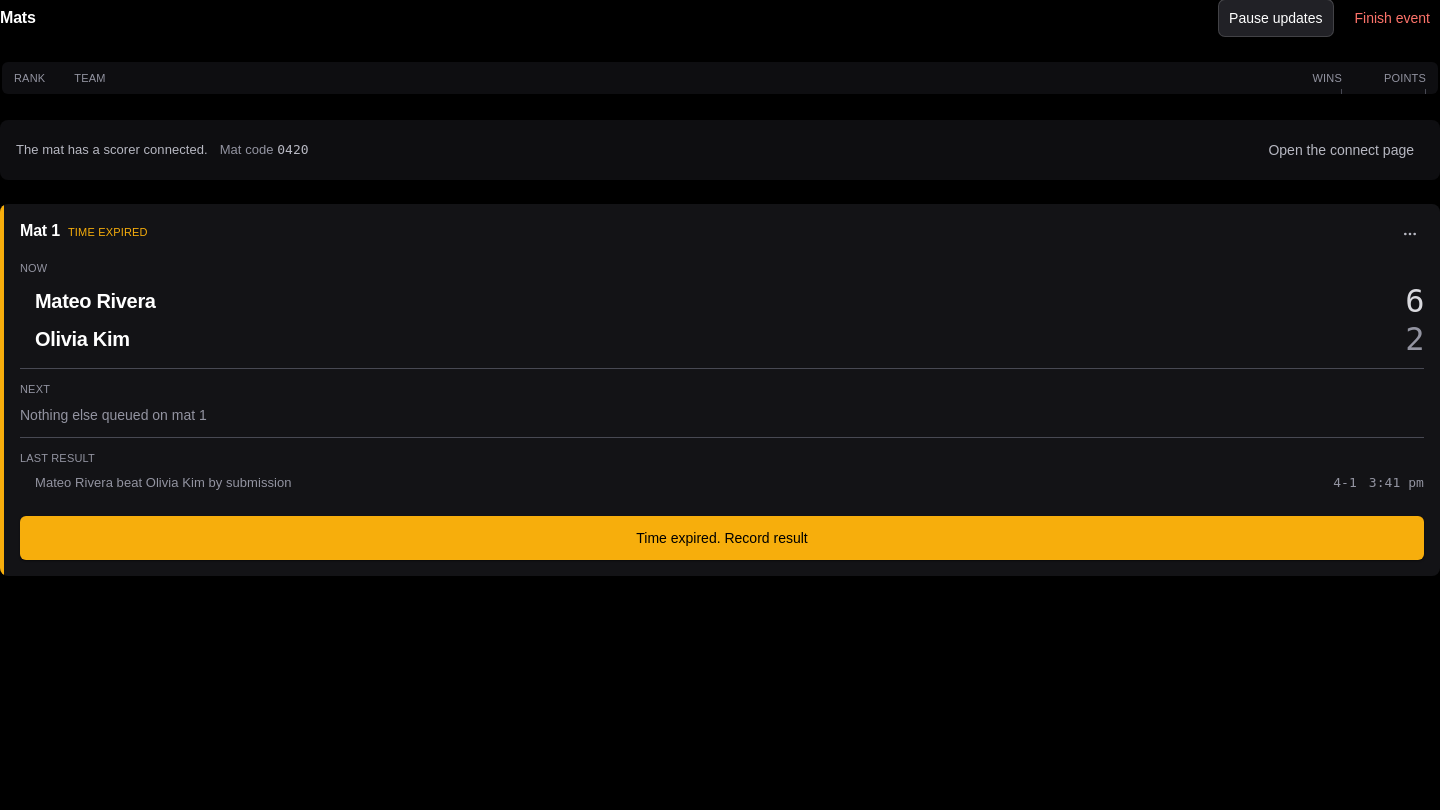
Test: LiveTab › opens the result dialog for the mat last result
Click the button named "Mat 1 actions": (1410, 234) 1396,220 -> 1424,248
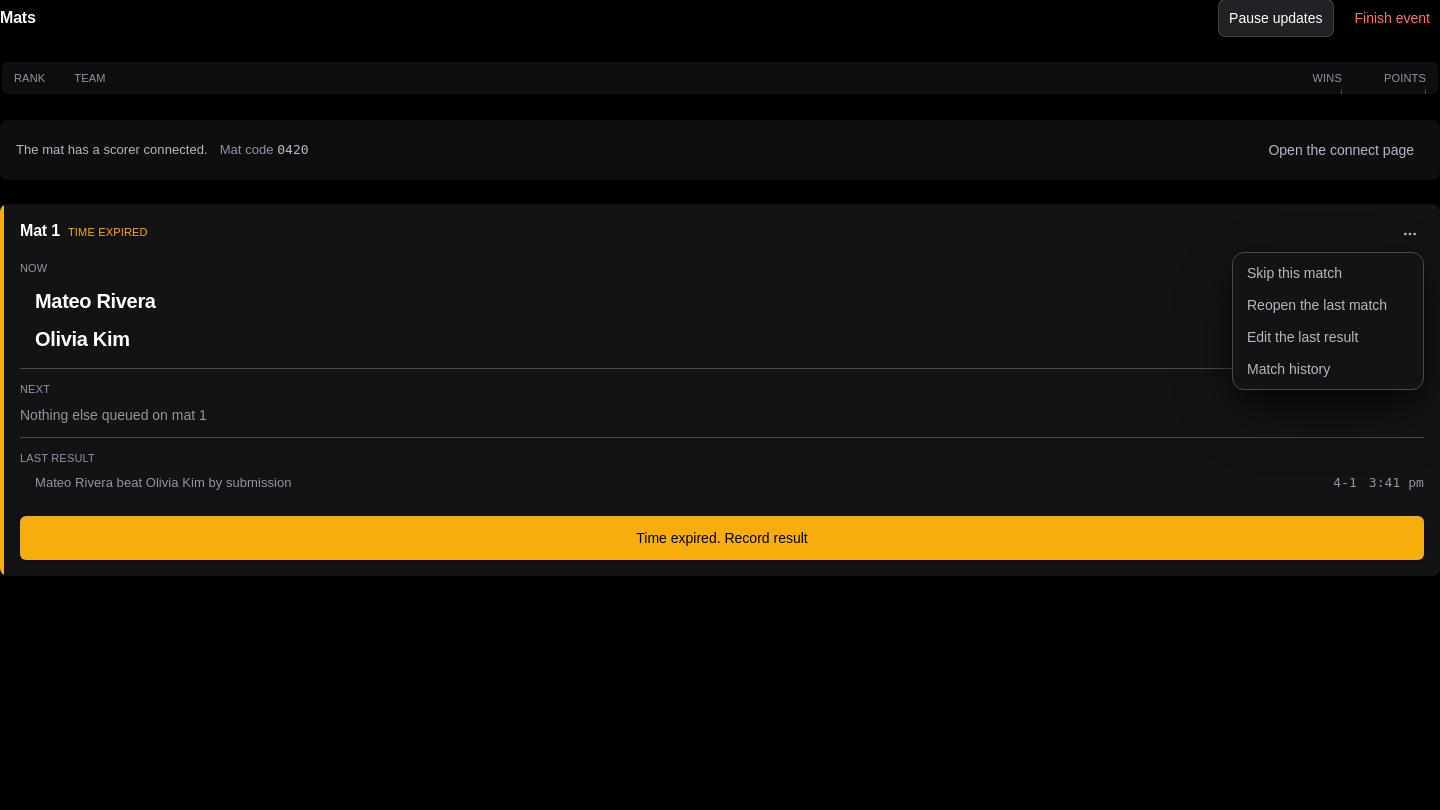
Click the menu item "Edit the last result": (1303, 337) 1247,329 -> 1358,345
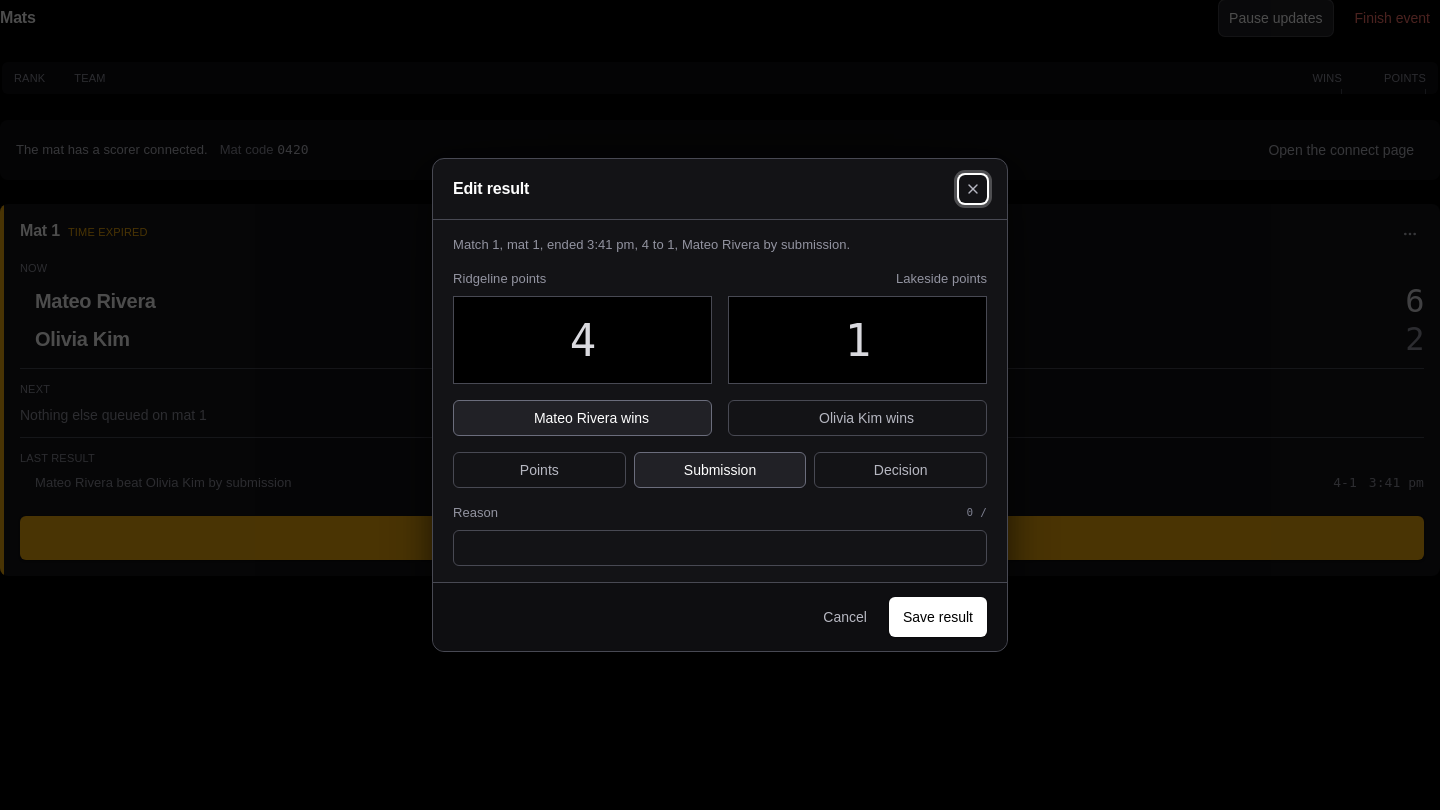
Check: the heading "Edit result" is shown, box 453,178 -> 529,200
Check: the text "Mateo Rivera" is shown, box 453,237 -> 850,252
